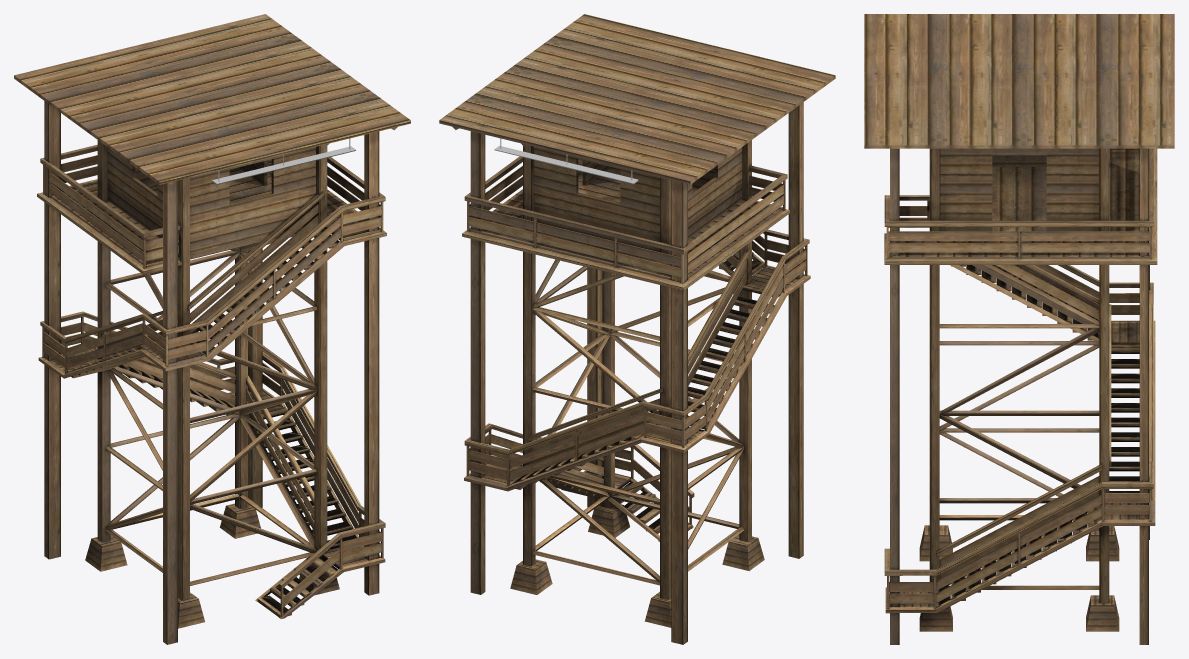
The model's file is FullTower (1).fbx.
3 views of the same model, side by side, from view 1: azimuth 30°, elevation 25°; view 2: azimuth 150°, elevation 25°; view 3: azimuth 270°, elevation 25° (orthographic). The views are drawn at different scales.
Visible parts, largest first — view 1: WatchTower, CeilingBar__1_; view 2: WatchTower, CeilingBar; view 3: WatchTower.
Boxes of the visible parts, x1,y1,x2,y2 form: WatchTower: [14, 14, 410, 644]; CeilingBar__1_: [212, 138, 355, 184]; WatchTower: [439, 14, 835, 644]; CeilingBar: [494, 138, 638, 184]; WatchTower: [864, 14, 1174, 644].
Bounding box in the file's own units: 552 × 1000 × 552.
